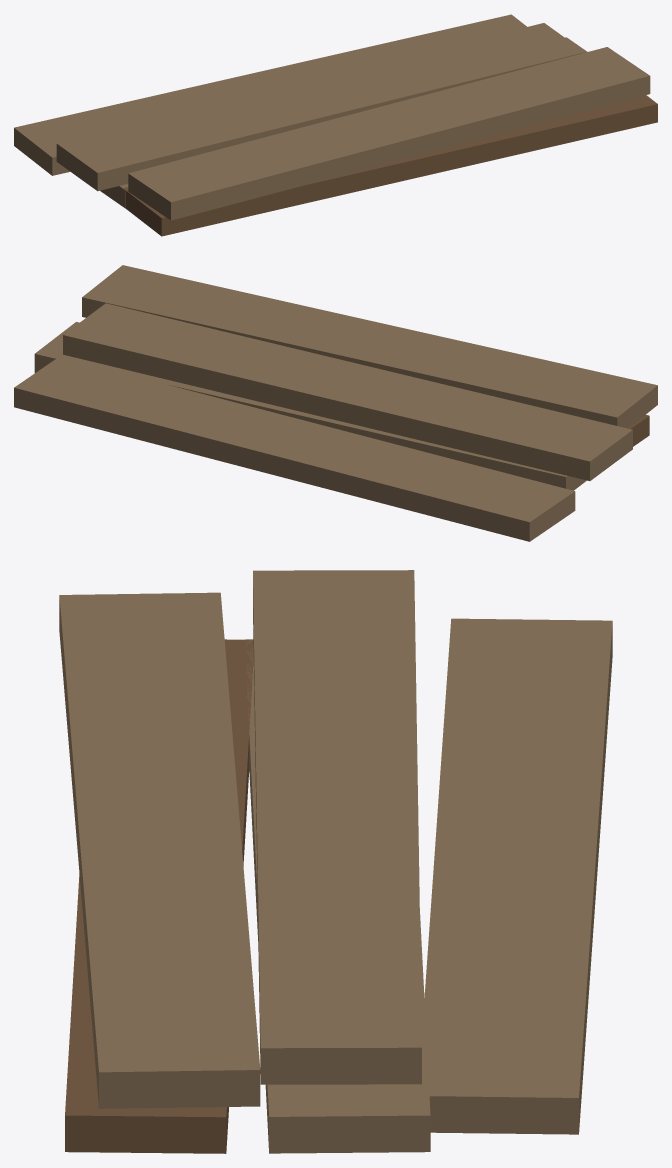
Rendered from room_site_pile.glb.
3 views of the same model, one above another, from view 1: azimuth 30°, elevation 25°; view 2: azimuth 150°, elevation 25°; view 3: azimuth 270°, elevation 25° (orthographic). The views are drawn at different scales.
Visible parts, largest first — view 1: room_site_pile; view 2: room_site_pile; view 3: room_site_pile.
Boxes of the visible parts, <box> form: room_site_pile: <box>14,14,657,236</box>; room_site_pile: <box>14,265,657,541</box>; room_site_pile: <box>59,570,612,1153</box>.
Bounding box in the file's own units: 1.48 × 0.11 × 0.6853.
